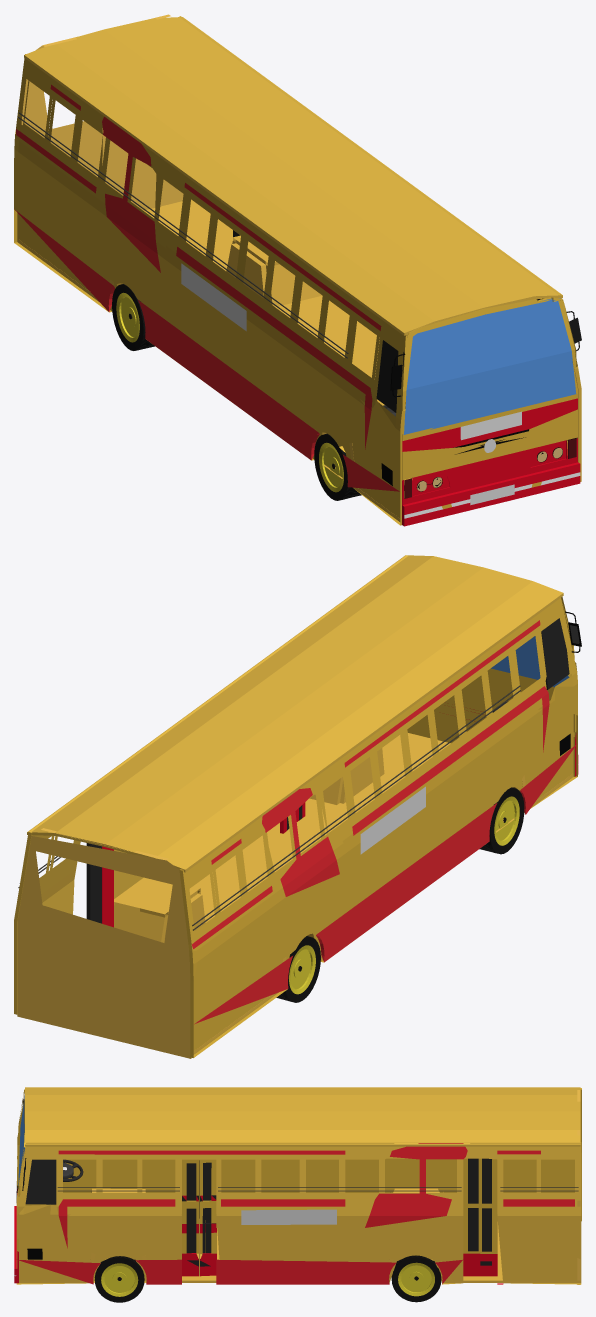
The model's file is ksrtc.glb.
The picture shows the model from 3 angles, top to bottom: view 1: azimuth 30°, elevation 25°; view 2: azimuth 150°, elevation 25°; view 3: azimuth 270°, elevation 25°; orthographic projection. The views are drawn at different scales.
Parts seen in each view (by area): view 1: t & b, DRIVER, FRONT, BACK, FL, RL, passenger, hand rail, sf, Cube; view 2: t & b, DRIVER, BACK, FRONT, passenger, FL, RL, hand rail, sf, Cube, DOOR.004, DOOR.001; view 3: passenger, t & b, DRIVER, DOOR.001, DOOR.004, DOOR.003, DOOR.002, RR, FR, sf, hand rail, Cube.001 (+2 smaller).
Part boxes in pixels (x1,y1,x2,y2): t & b: (18,17,562,521); DRIVER: (14,54,406,525); FRONT: (401,297,580,526); BACK: (21,14,183,210); FL: (314,433,361,500); RL: (112,284,154,350); passenger: (178,16,581,481); hand rail: (18,112,348,358); sf: (181,263,246,331); Cube: (376,340,404,412); t & b: (27,555,573,1053); DRIVER: (179,598,577,1057); BACK: (17,828,193,1058); FRONT: (407,597,578,776); passenger: (14,555,407,1014); FL: (479,787,524,854); RL: (276,936,320,1002); hand rail: (18,685,520,930); sf: (360,786,425,854); Cube: (541,618,569,689); DOOR.004: (86,843,101,923); DOOR.001: (102,846,113,927); passenger: (16,1142,581,1284); t & b: (19,1087,580,1282); DRIVER: (17,1088,581,1221); DOOR.001: (463,1158,480,1276); DOOR.004: (480,1158,497,1276); DOOR.003: (199,1159,216,1276); DOOR.002: (182,1159,198,1276); RR: (391,1255,441,1302); FR: (94,1256,144,1302); sf: (241,1209,336,1224); hand rail: (57,1187,578,1191); Cube.001: (25,1159,56,1204).
Size of the model in its own units: 2.4 by 2.59 by 8.41.
